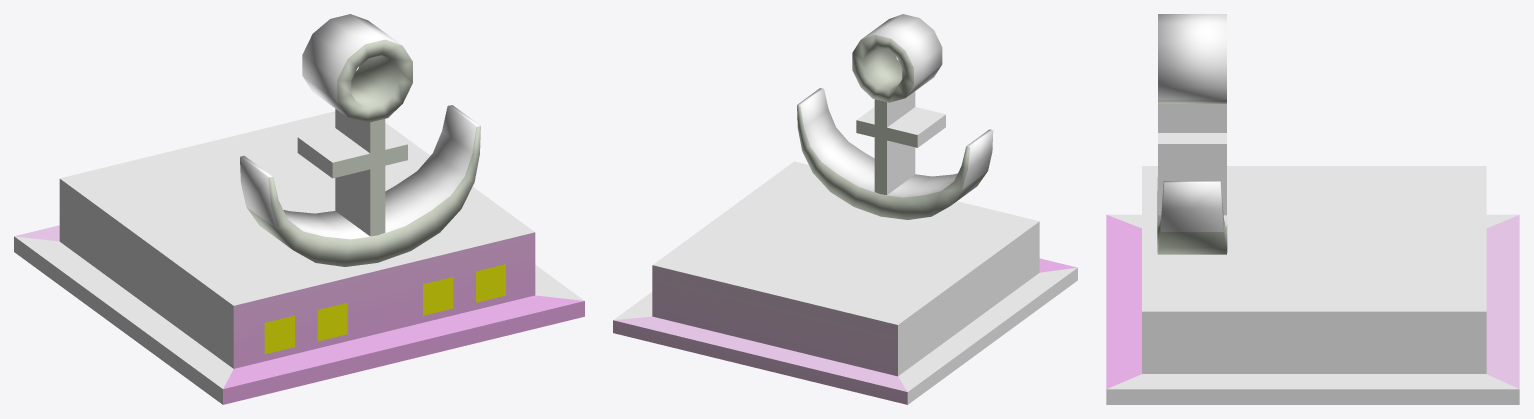
The model's file is Port.Neutral.glb.
The picture shows the model from 3 angles, left to right: view 1: azimuth 30°, elevation 25°; view 2: azimuth 150°, elevation 25°; view 3: azimuth 270°, elevation 25°; orthographic projection. The views are drawn at different scales.
Visible parts, largest first — view 1: Port.Neutral; view 2: Port.Neutral; view 3: Port.Neutral.
Boxes of the visible parts, box(x1,y1,x2,y2) form: Port.Neutral: box(14, 14, 584, 404); Port.Neutral: box(613, 14, 1077, 404); Port.Neutral: box(1106, 14, 1519, 404).
Bounding box in the file's own units: 2.4 × 1.9 × 2.4.
Materials: 2 (1 with a texture image).
